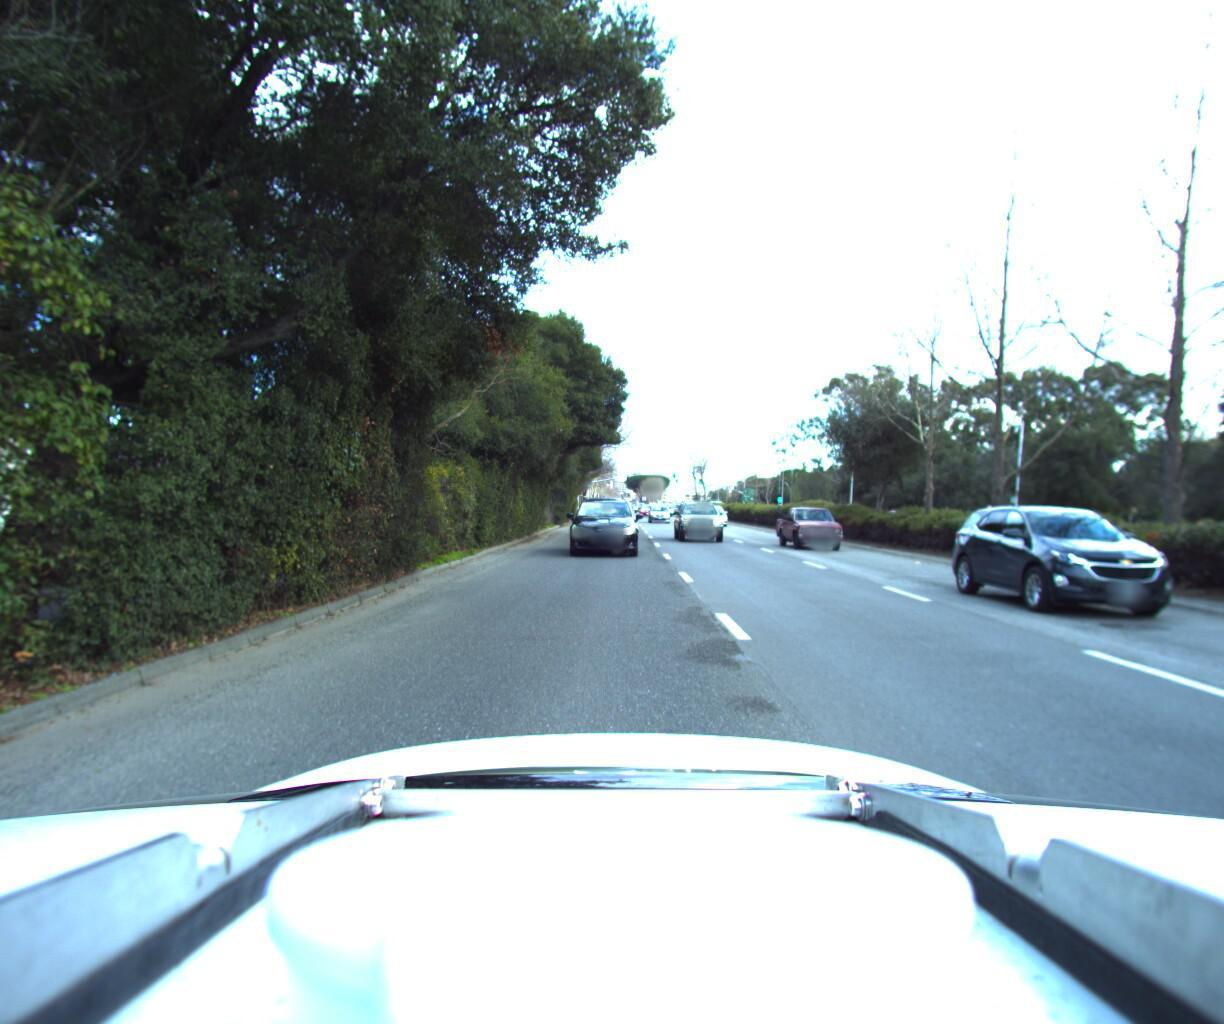car: (968, 499, 1224, 639), (564, 487, 637, 555), (777, 498, 860, 550), (674, 493, 728, 541), (647, 496, 675, 519)
